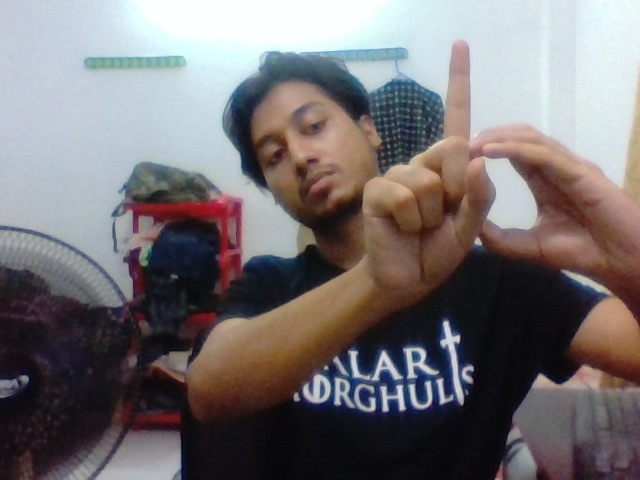D: (399, 22, 597, 272)
